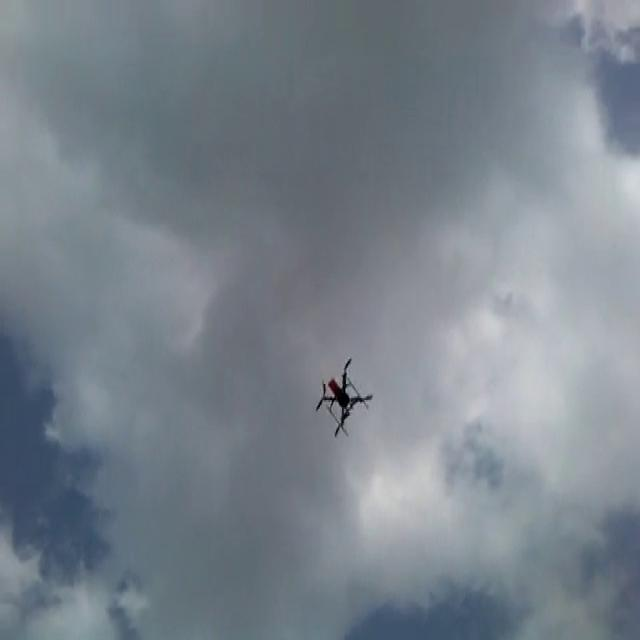drone: (312, 352, 374, 439)
